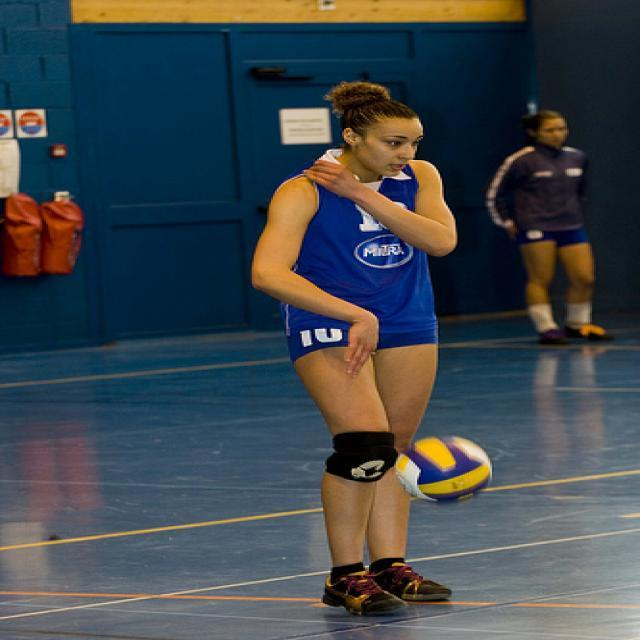volleyball: (396, 434, 492, 504)
